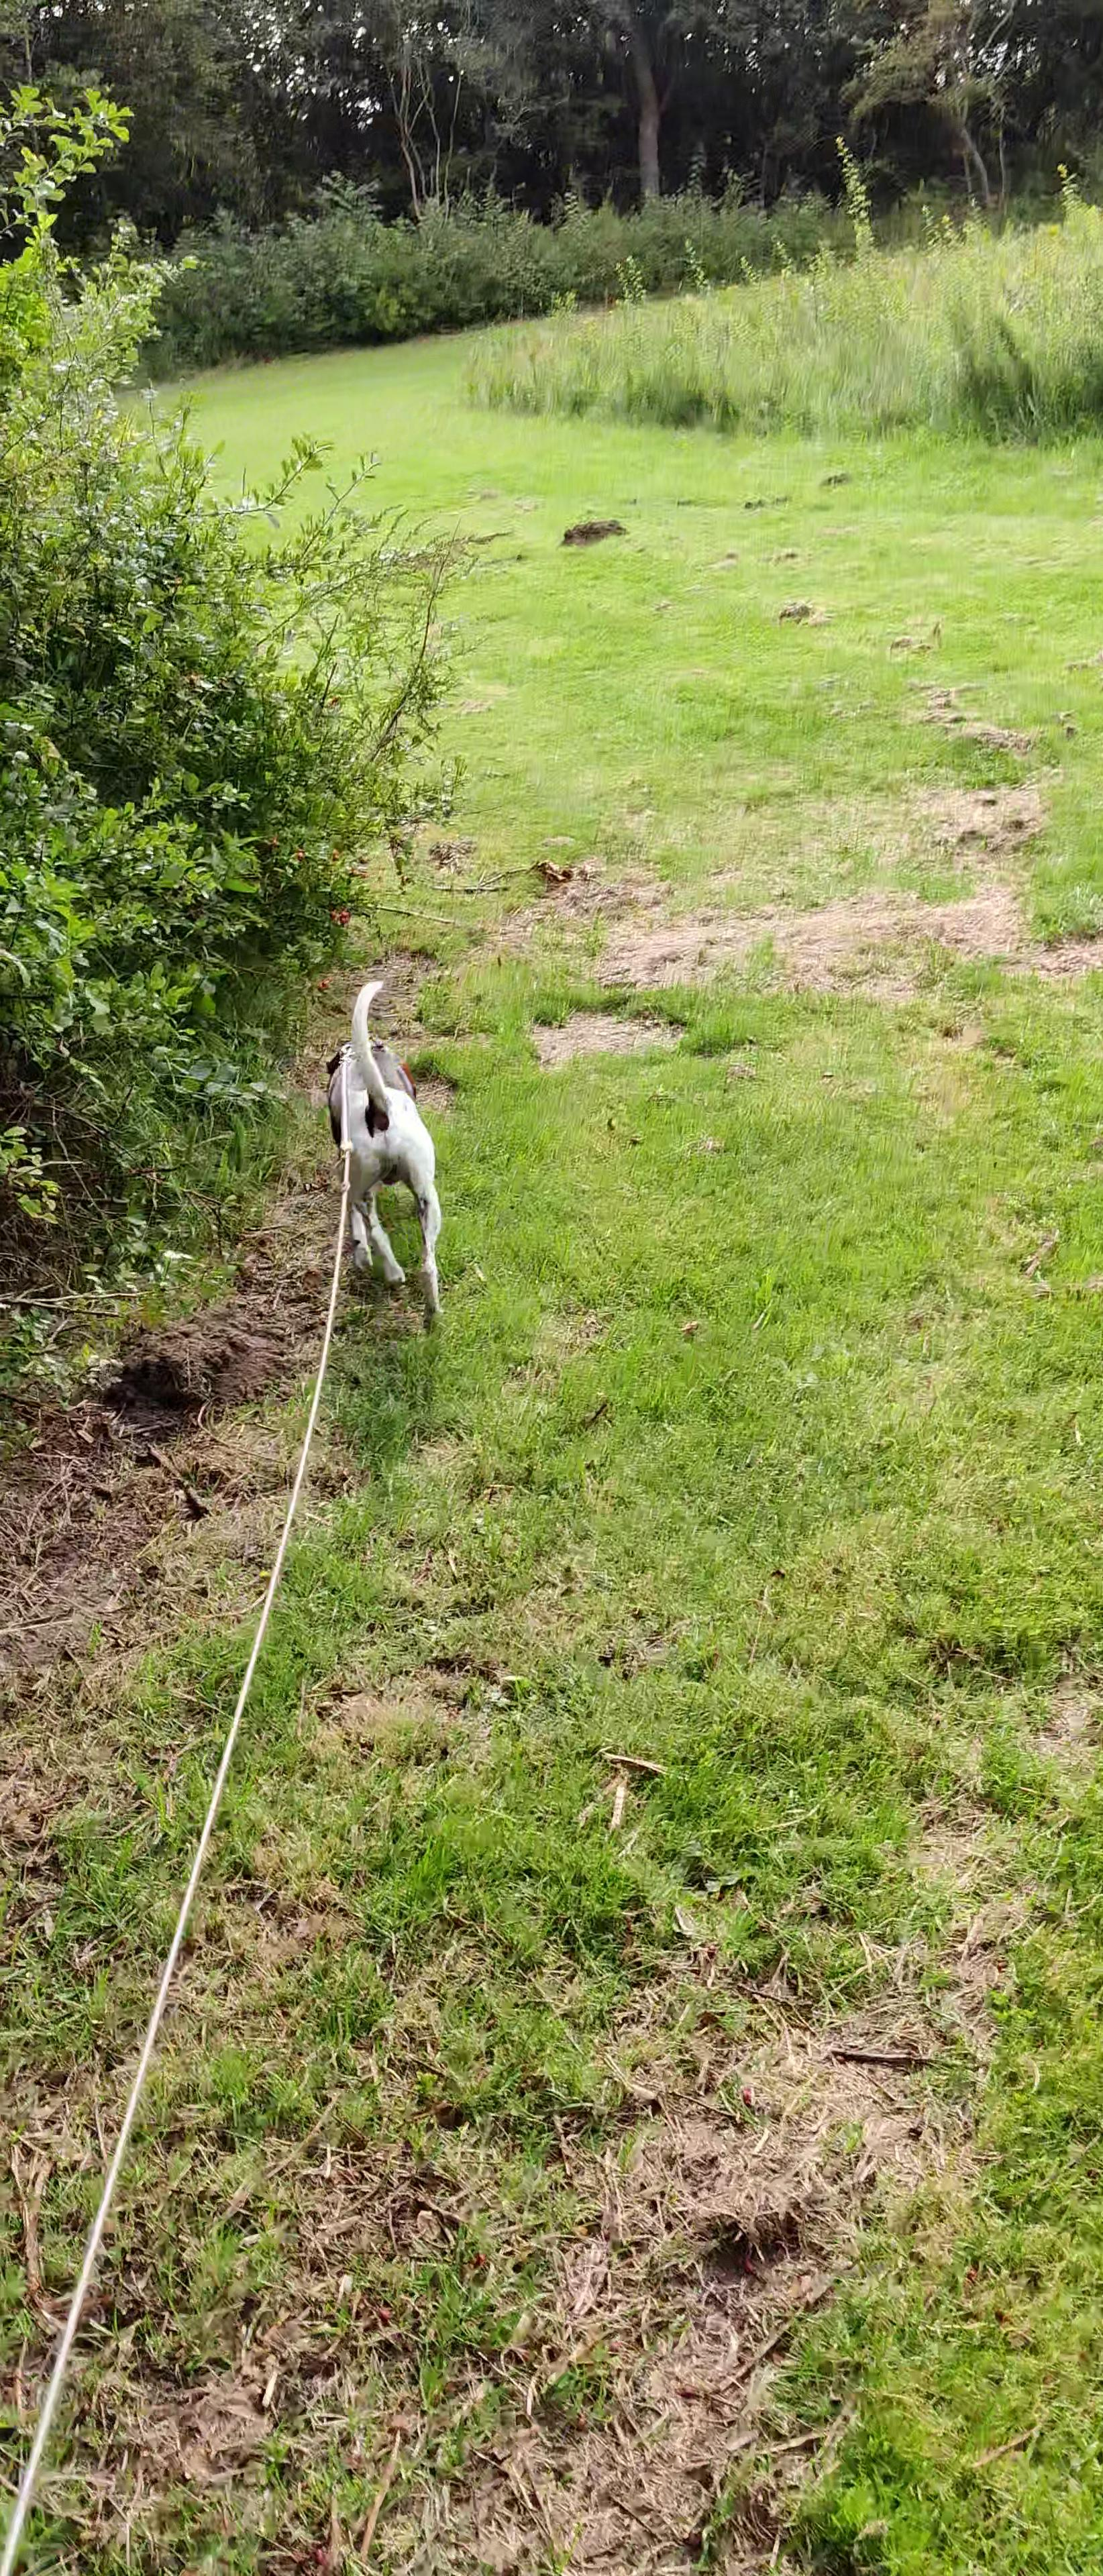Dog: (288, 959, 467, 1324)
